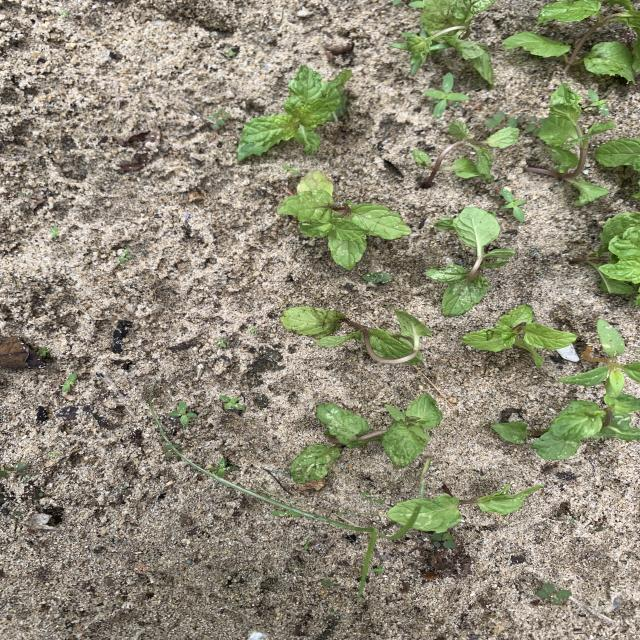crop: (289, 394, 441, 482), (278, 172, 409, 268), (504, 1, 639, 82), (238, 66, 351, 159), (529, 83, 615, 204), (492, 394, 640, 460), (427, 208, 515, 314), (282, 307, 431, 363), (395, 0, 495, 83), (461, 305, 577, 368), (387, 484, 542, 531), (413, 121, 519, 185), (574, 214, 639, 303), (596, 138, 639, 171)
weed: (157, 423, 382, 594), (559, 319, 640, 397), (425, 74, 468, 116), (501, 189, 526, 221), (536, 583, 571, 604), (170, 402, 195, 426), (485, 113, 518, 127), (208, 458, 235, 475), (588, 90, 607, 113), (420, 457, 431, 495), (518, 116, 540, 132), (220, 395, 243, 410), (432, 532, 455, 547), (210, 110, 231, 126), (363, 272, 391, 283), (62, 373, 76, 391), (362, 492, 382, 502), (118, 248, 131, 262), (284, 166, 297, 174), (39, 348, 50, 356), (216, 339, 226, 347)
